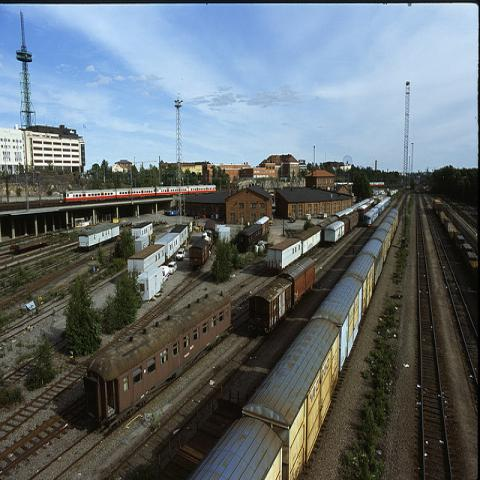car: (159, 266, 170, 283), (176, 248, 186, 261), (168, 261, 177, 275), (317, 213, 328, 220), (305, 213, 311, 221), (269, 218, 272, 226)
